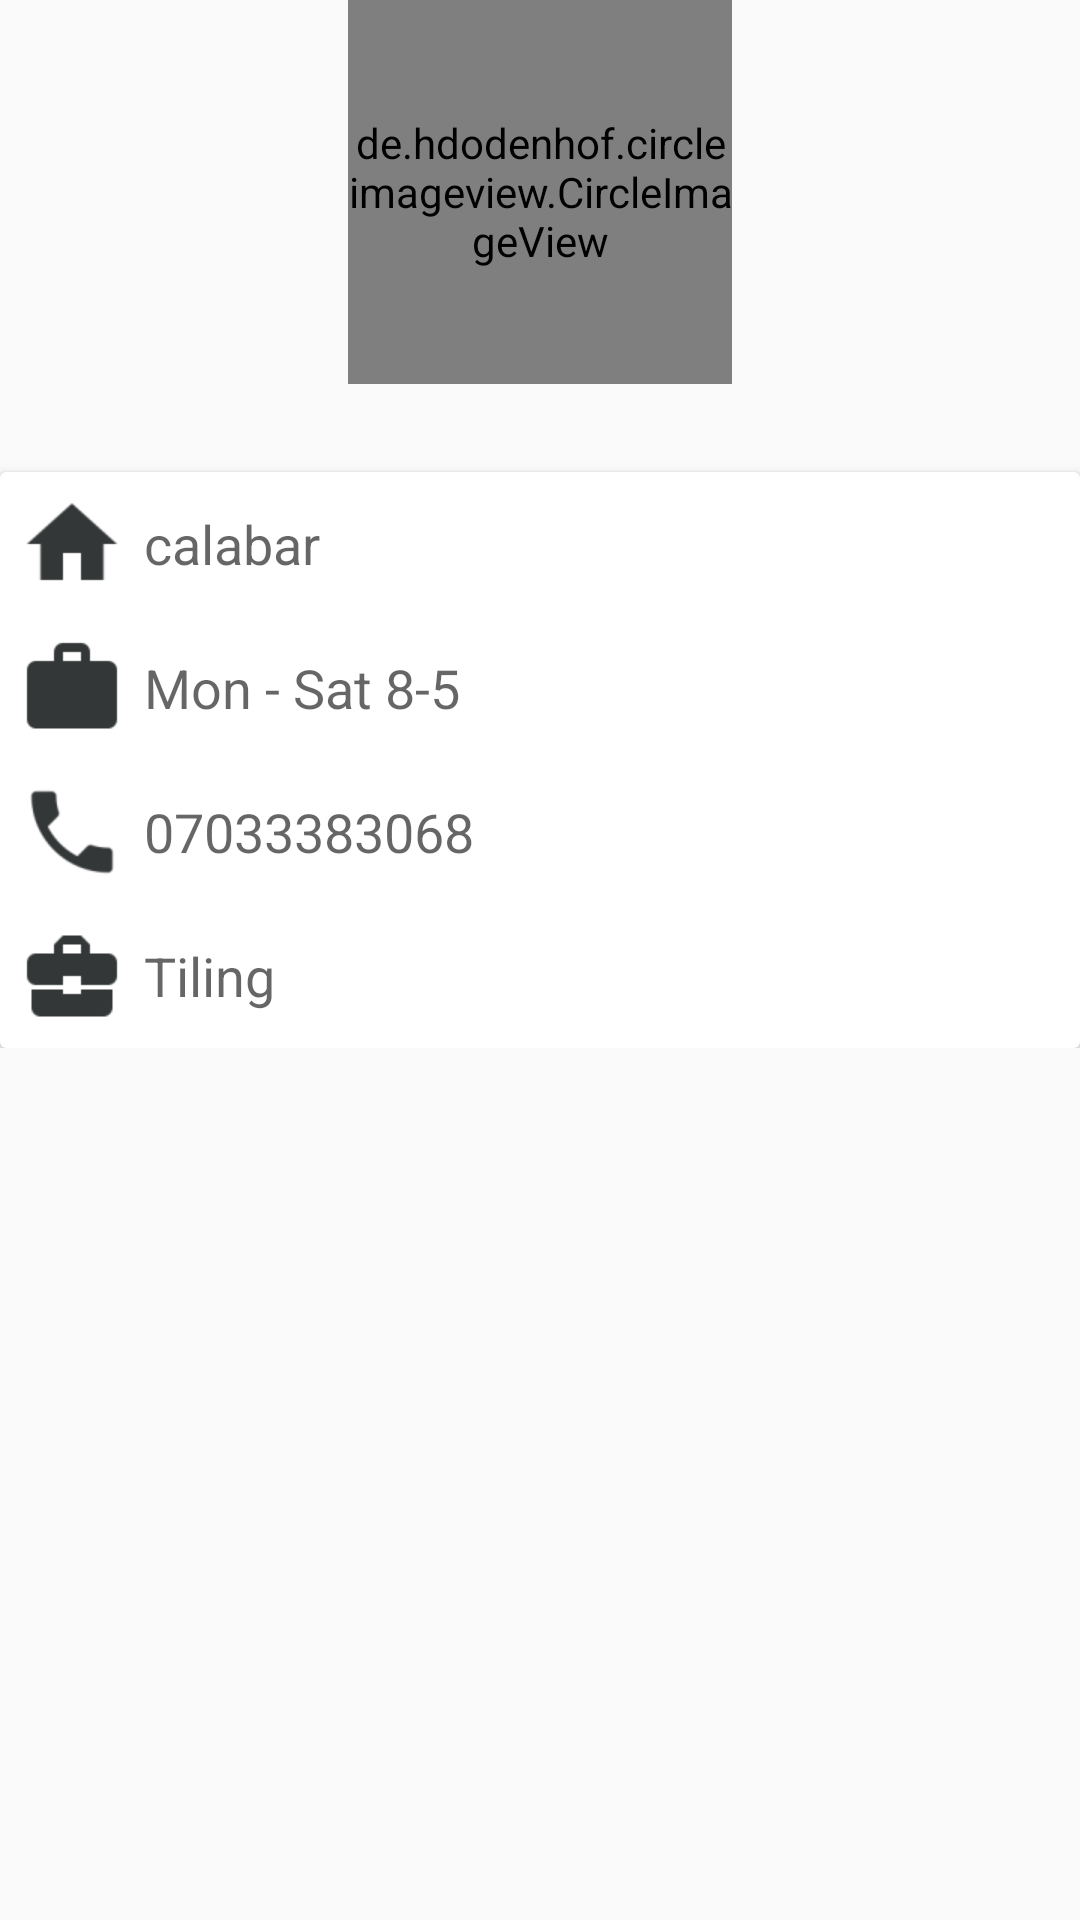

Point at icon controls on the screen. Image size 1080×1920, points as point (x, y).
house: point (58, 527)
phone: point (72, 832)
work: point (72, 685)
